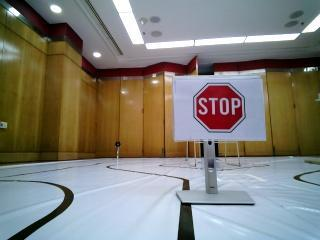stop: (174, 75, 265, 138)
